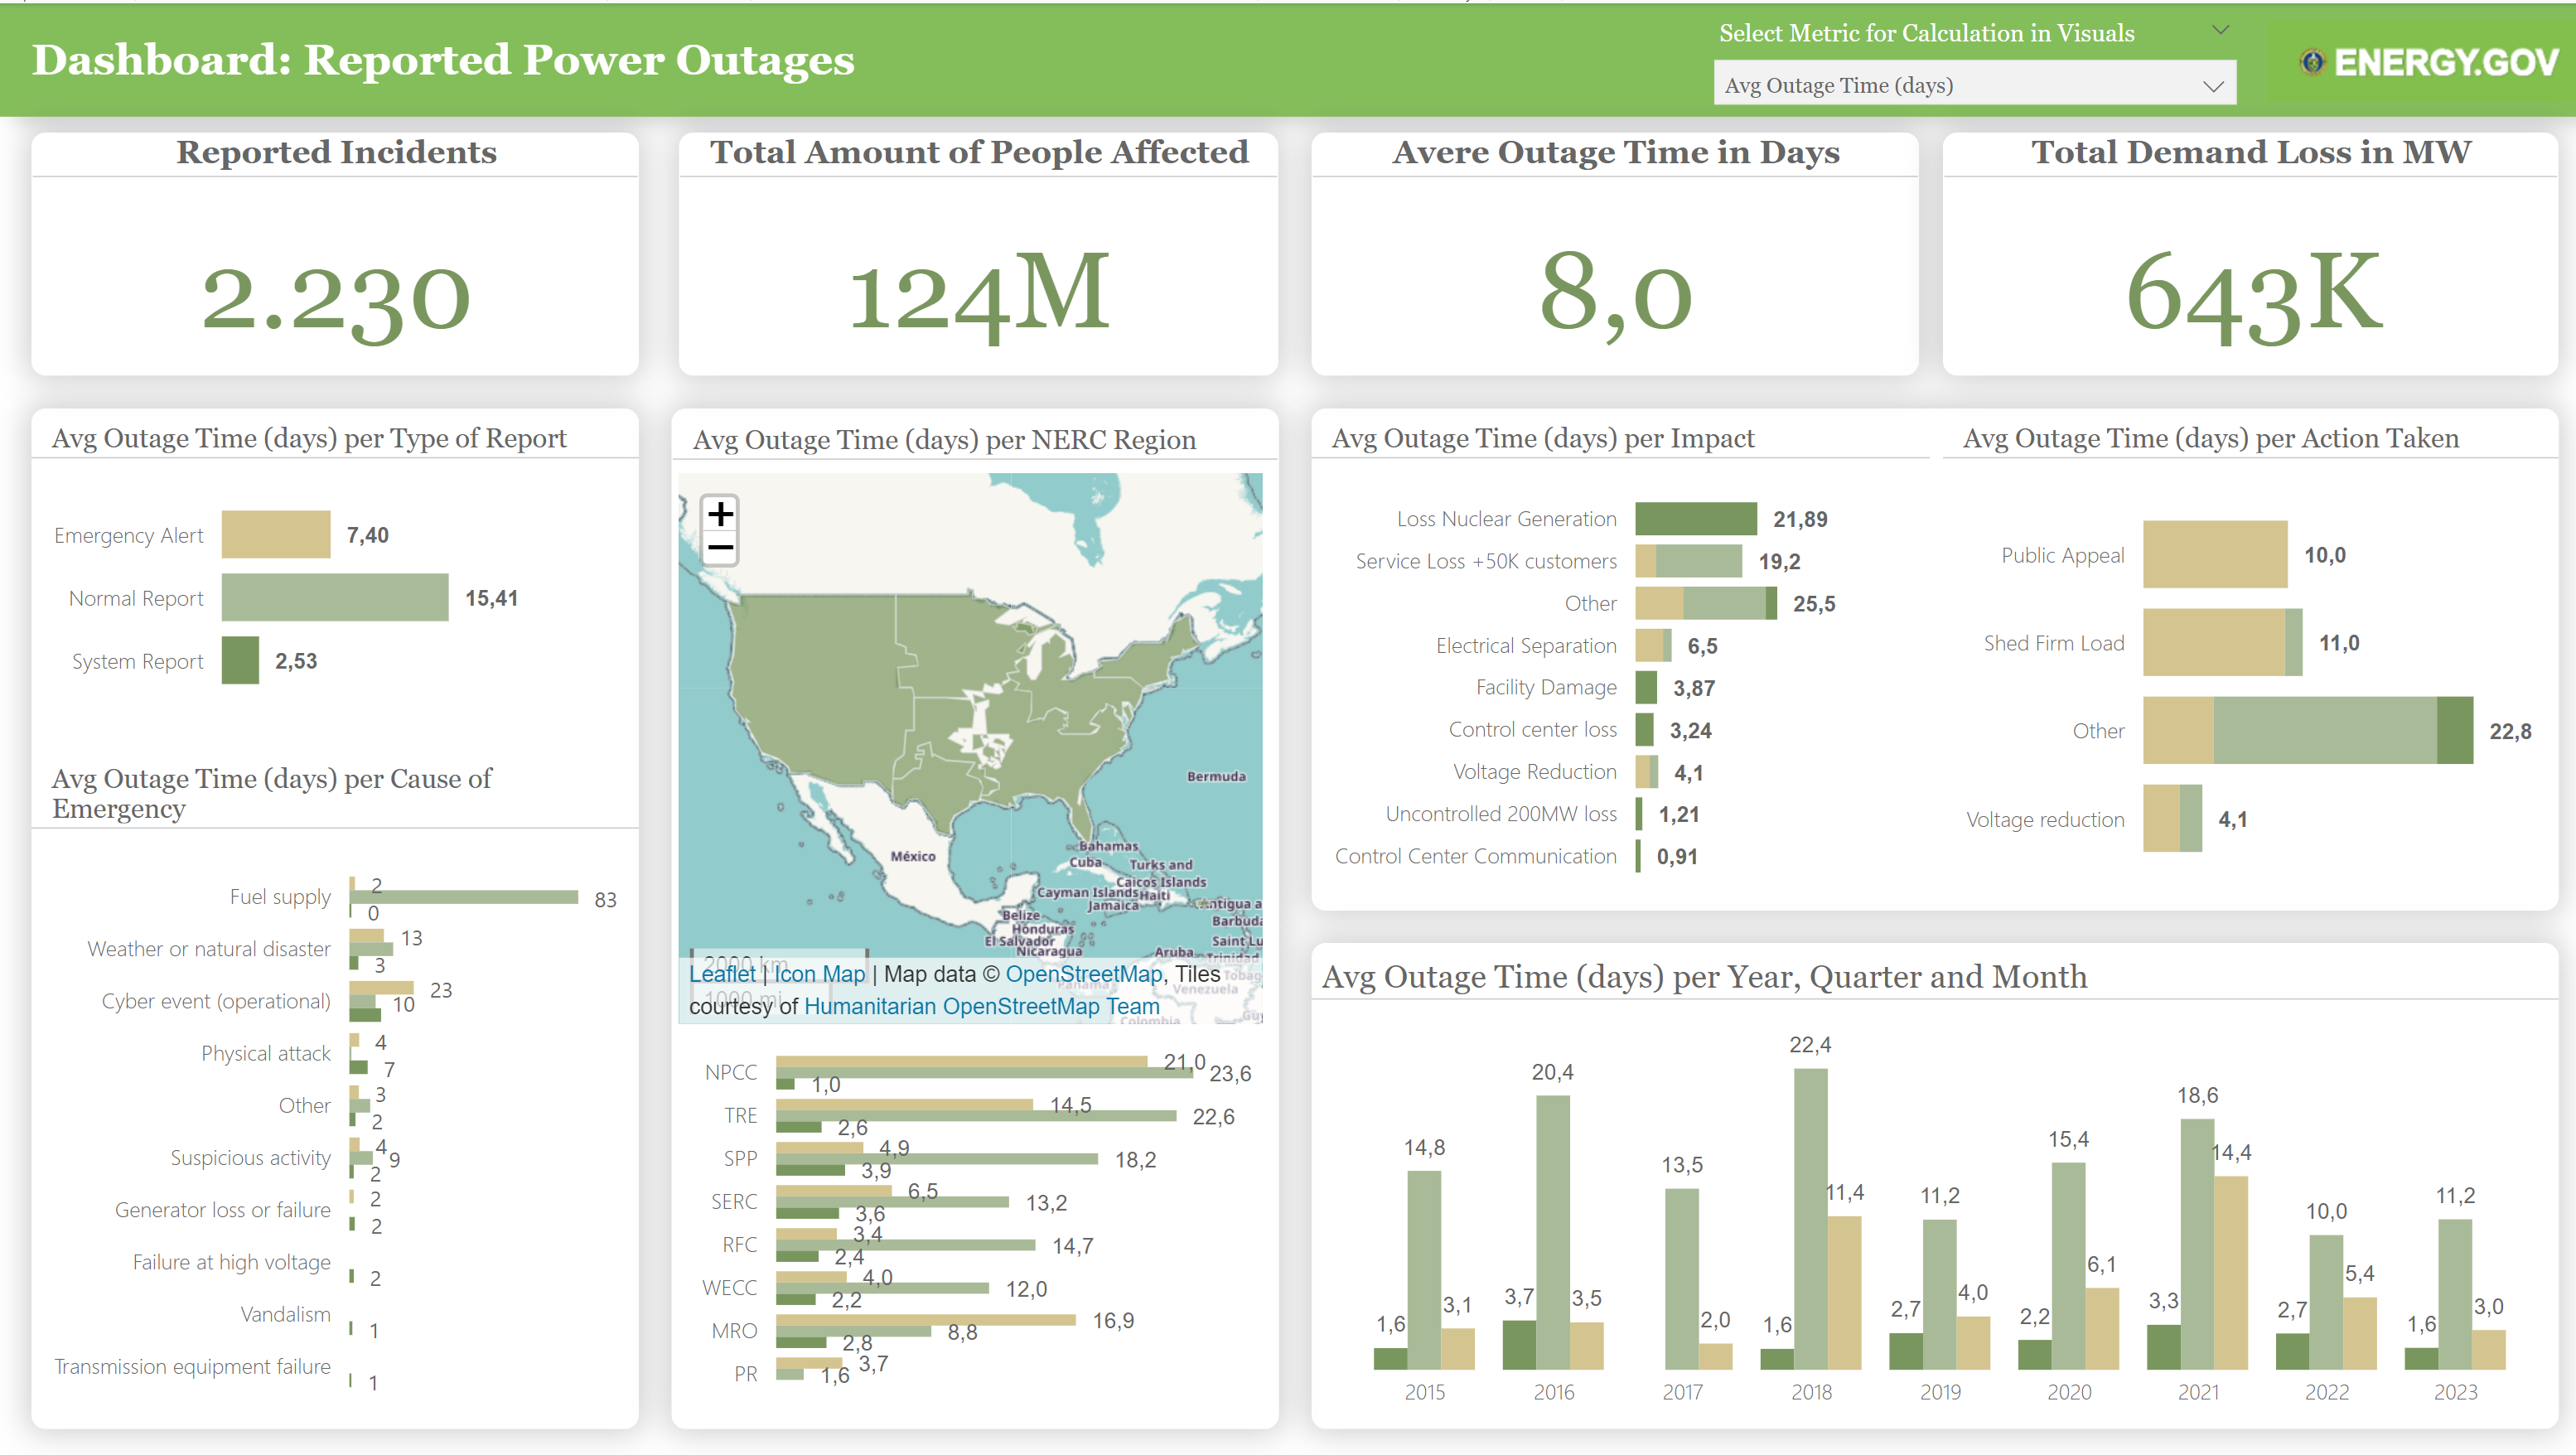

Layout of this report page (visuals, bound fields, positions):
{"tool":"powerbi","page":{"name":"Dashboard","canvas":[1280,720],"ordinal":0},"visuals":[{"type":"shape","box":[648,200,616,248],"z":0},{"type":"shape","box":[16,200,300,504],"z":1000},{"type":"shape","box":[0,0,1280,56],"z":2000},{"type":"shape","box":[648,464,616,240],"z":3000},{"type":"shape","box":[332.3,200,300,504],"z":4000},{"type":"clusteredBarChart","fields":{"Y":["Measurements.Incidents"],"Category":["Emergency Causes.Cause Short"],"Series":["Alert Criteria.Report Type"]},"box":[16,368,300,336],"z":5000},{"type":"barChart","fields":{"Y":["Measurements.Incidents"],"Series":["Alert Criteria.Report Type"],"Category":["Emergency Actions.Action Taken Short"]},"box":[960,200,304,248],"z":6000},{"type":"image","box":[1120,0,160,56],"z":7000},{"type":"clusteredBarChart","fields":{"Y":["Measurements.Incidents"],"Category":["NERC Regions.NERC"],"Series":["Alert Criteria.Report Type"]},"box":[336,496,296,208],"z":8000},{"type":"iconMapV34089C0EB522B416294AA926F71B4FDBB","fields":{"Size":["Measurements.Incidents"],"category":["NERC Regions.NERC"]},"box":[336,232,288,272],"z":9000},{"type":"card","title":"Reported Incidents","fields":{"Values":["Measurements.Incidents"]},"box":[16,64,300,120],"z":10000},{"type":"card","title":"Total Amount of People Affected","fields":{"Values":["Measurements.People Affected"]},"box":[336,64,296,120],"z":11000},{"type":"card","title":"Avere Outage Time in Days","fields":{"Values":["Measurements.Avg Outage Time (hours)"]},"box":[648,64,300,120],"z":12000},{"type":"card","title":"Total Demand Loss in MW","fields":{"Values":["Measurements.Demand Loss"]},"box":[960,64,304,120],"z":13000},{"type":"barChart","fields":{"Y":["Measurements.Incidents"],"Series":["Alert Criteria.Report Type"],"Category":["Emergency Impacts.Impact Short"]},"box":[648,200,305,248],"z":14000},{"type":"barChart","fields":{"Y":["Measurements.Incidents"],"Category":["Alert Criteria.Report Type"],"Series":["Alert Criteria.Report Type"]},"box":[16,200,300,160],"z":15000},{"type":"slicer","fields":{"Values":["Calculation Method.Calculation Method"]},"box":[832,0,288,56],"z":16000},{"type":"clusteredColumnChart","fields":{"Y":["Measurements.Incidents"],"Category":["Calendar.Year","Calendar.Quarter Name","Calendar.Month Name"],"Series":["Alert Criteria.Report Type"]},"box":[648,464,616,240],"z":17000},{"type":"textbox","box":[16,16,424,40],"z":18000}]}

Visuals, with their boxes in screenshot pixels (x1, y1, x2, y2), scaled from the page's 1280x720 canvas onto the 2576x1455 screenshot:
shape: (x1=1304, y1=404, x2=2544, y2=906)
shape: (x1=32, y1=404, x2=636, y2=1423)
shape: (x1=0, y1=0, x2=2575, y2=114)
shape: (x1=1304, y1=938, x2=2544, y2=1423)
shape: (x1=669, y1=404, x2=1273, y2=1423)
clusteredBarChart - Measurements.Incidents x Emergency Causes.Cause Short: (x1=32, y1=744, x2=636, y2=1423)
barChart - Measurements.Incidents x Alert Criteria.Report Type: (x1=1932, y1=404, x2=2544, y2=906)
image: (x1=2254, y1=0, x2=2575, y2=114)
clusteredBarChart - Measurements.Incidents x NERC Regions.NERC: (x1=676, y1=1003, x2=1272, y2=1423)
iconMapV34089C0EB522B416294AA926F71B4FDBB - Measurements.Incidents x NERC Regions.NERC: (x1=676, y1=469, x2=1256, y2=1018)
"Reported Incidents" card: (x1=32, y1=129, x2=636, y2=372)
"Total Amount of People Affected" card: (x1=676, y1=129, x2=1272, y2=372)
"Avere Outage Time in Days" card: (x1=1304, y1=129, x2=1908, y2=372)
"Total Demand Loss in MW" card: (x1=1932, y1=129, x2=2544, y2=372)
barChart - Measurements.Incidents x Alert Criteria.Report Type: (x1=1304, y1=404, x2=1918, y2=906)
barChart - Measurements.Incidents x Alert Criteria.Report Type: (x1=32, y1=404, x2=636, y2=727)
slicer - Calculation Method.Calculation Method: (x1=1675, y1=0, x2=2254, y2=114)
clusteredColumnChart - Measurements.Incidents x Calendar.Year: (x1=1304, y1=938, x2=2544, y2=1423)
textbox: (x1=32, y1=32, x2=886, y2=114)
